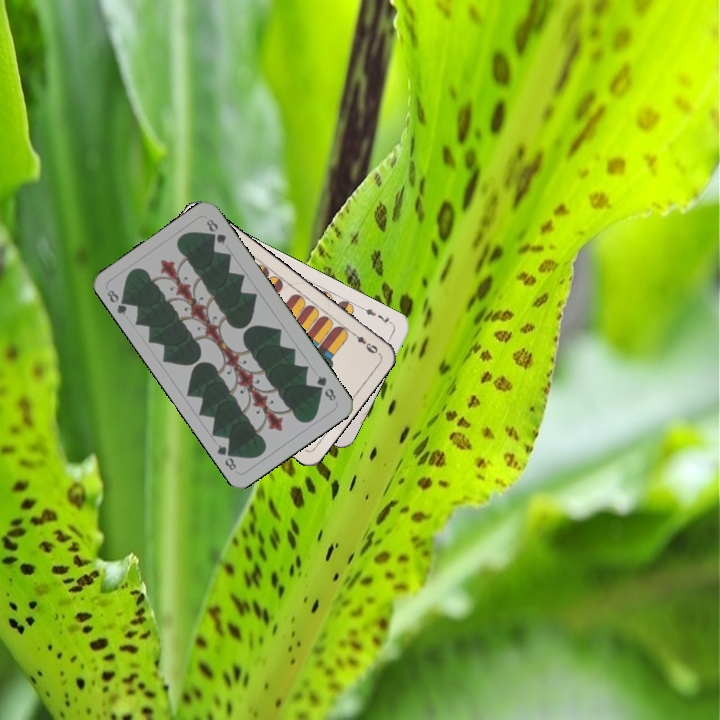E7: (358, 303, 396, 327)
E9: (347, 328, 382, 356)
G8: (103, 286, 132, 318), (312, 371, 339, 404)
